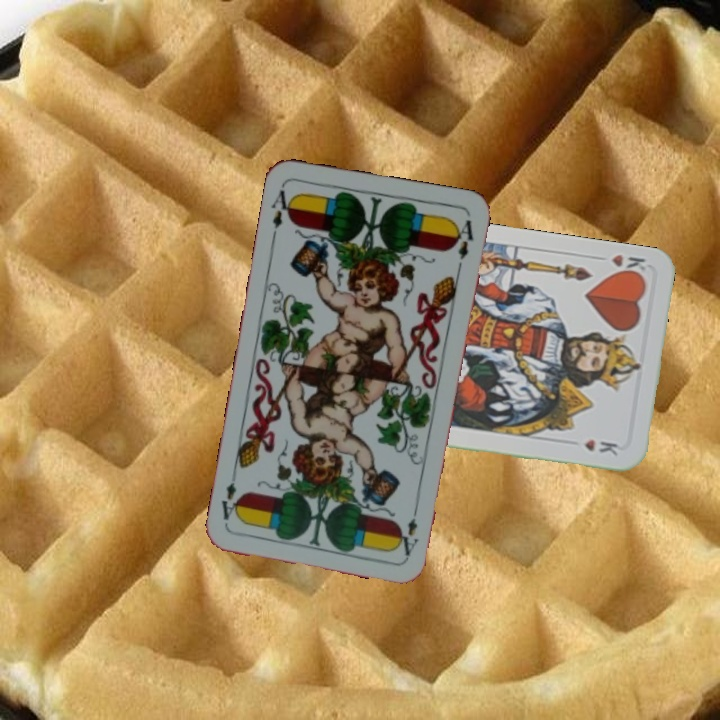EA: (267, 182, 297, 241), (398, 500, 421, 559)
HK: (591, 250, 648, 280)
